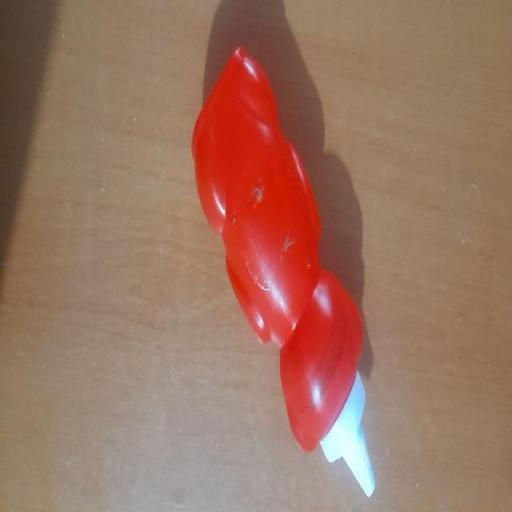plastic: (190, 42, 376, 500)
